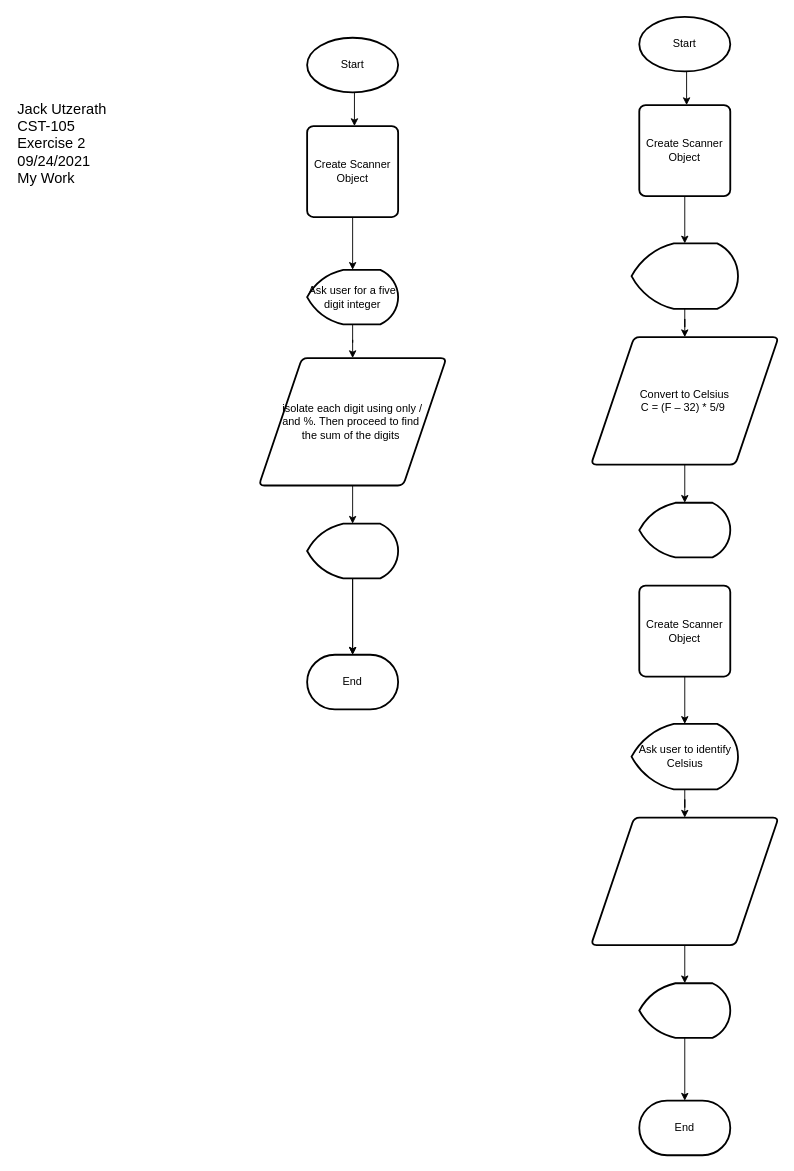
Image size: 794x1171. Some labels were removed from this diagram. Each missing label, with the centre of its shape:
"Ask user to identify farhenheit" belongs at (684,275).
"Convert to Farhenheit F = 9/5*C + 32" belongs at (684,880).
"Display Celsius Temp" belongs at (684,529).
"Display Farhenheit Temp" belongs at (684,1010).
"Display Sum of digits" belongs at (352,550).
